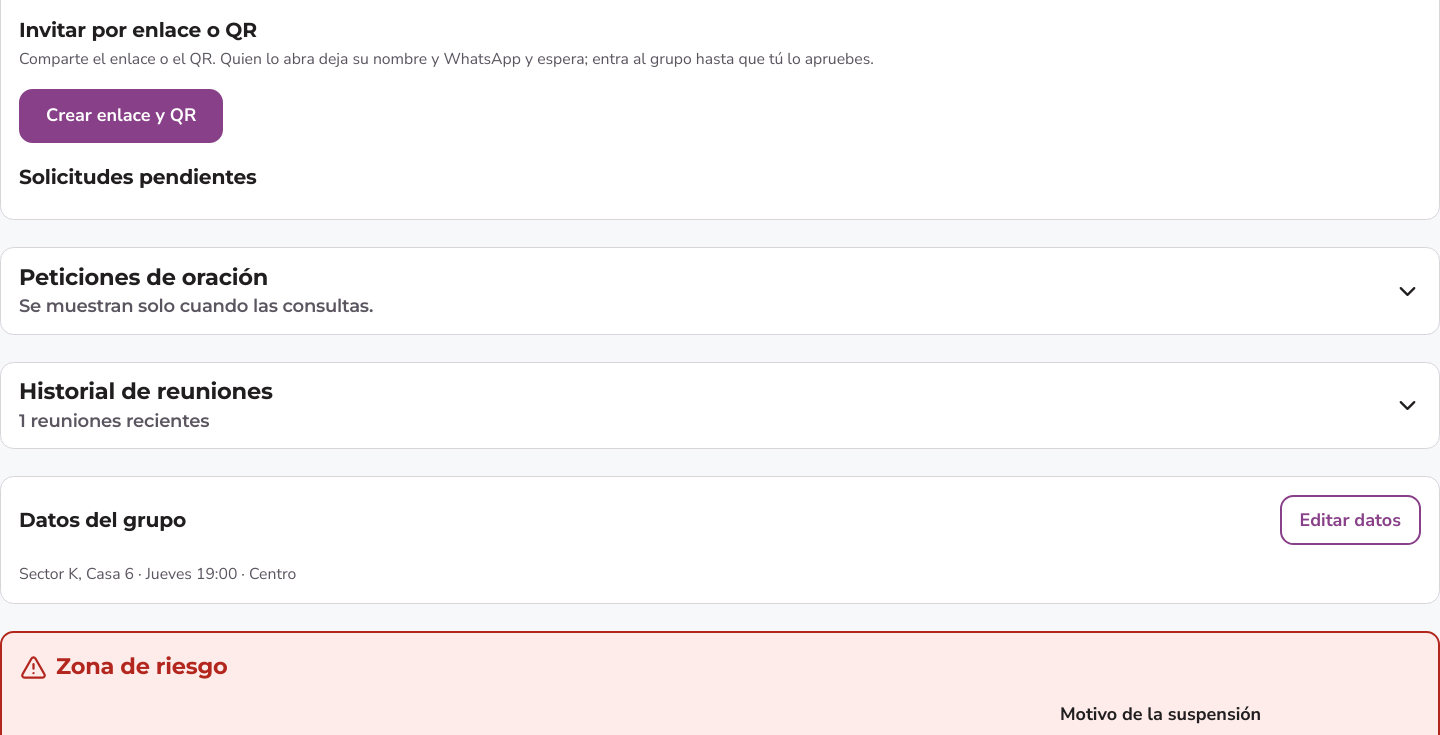
Scenario: GrupoPage › el historial marca las reuniones abiertas fuera de tiempo
(page scrolled)
Click the button "Historial de reuniones 1 reuniones recientes" at (146, 391), box [1,363,1439,448]
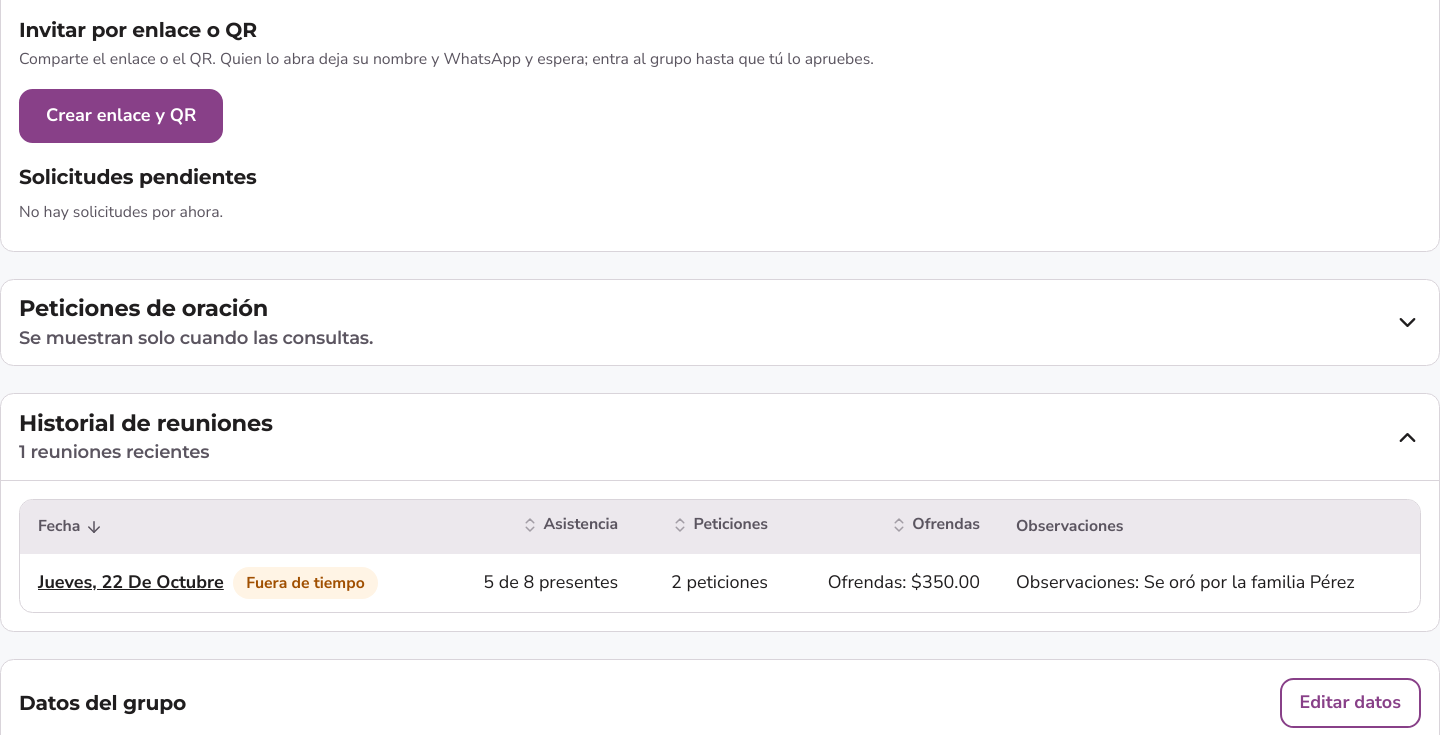
Expected: the text "Fuera de tiempo" is shown, [233,567,378,598]
